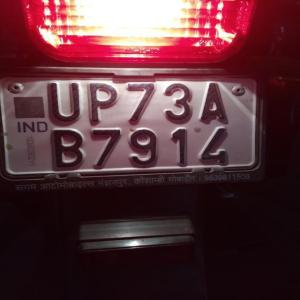Plate: (1, 74, 253, 175)
